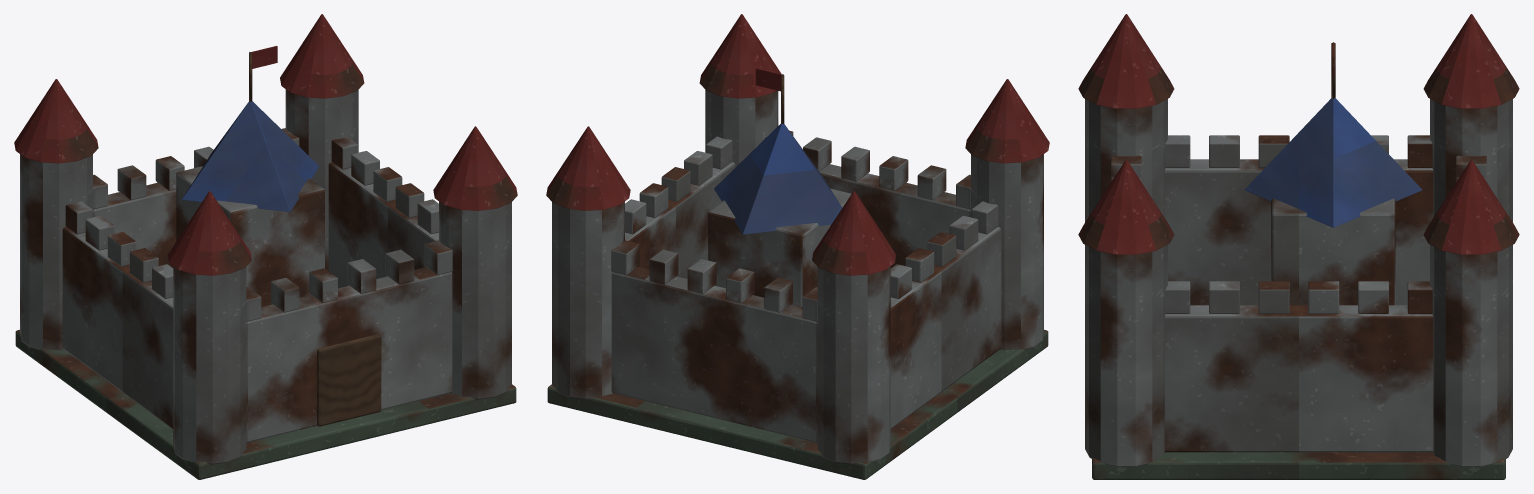
File: TY07_toy_castle.glb
3 renders of one model, left to right at view 1: azimuth 30°, elevation 25°; view 2: azimuth 150°, elevation 25°; view 3: azimuth 270°, elevation 25°, orthographic. The views are drawn at different scales.
Parts seen in each view (by area): view 1: TY07_toy_castle; view 2: TY07_toy_castle; view 3: TY07_toy_castle.
Boxes of the visible parts, left/top/right/bottom form: TY07_toy_castle: left=14, top=14, right=517, bottom=479; TY07_toy_castle: left=546, top=14, right=1049, bottom=479; TY07_toy_castle: left=1078, top=14, right=1519, bottom=479.
Bounding box in the file's own units: 0.7956 × 0.701 × 0.8.
Materials: 5 (5 with a texture image).
